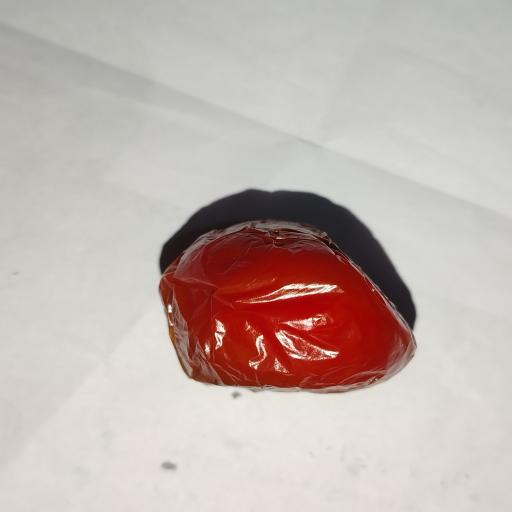spoiled: (160, 221, 415, 391)
